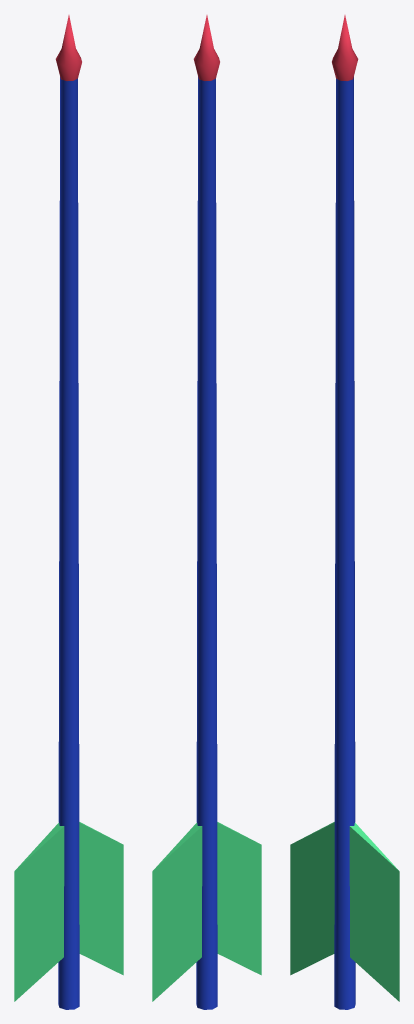
The model's file is PointyArrow.fbx.
3 renders of one model, left to right at view 1: azimuth 30°, elevation 25°; view 2: azimuth 210°, elevation 25°; view 3: azimuth 330°, elevation 25°, orthographic.
Parts seen in each view (by area): view 1: arrow_0; view 2: arrow_0; view 3: arrow_0.
Boxes of the visible parts, x1,y1,x2,y2 form: arrow_0: (14,15,123,1009); arrow_0: (152,15,261,1009); arrow_0: (290,15,399,1009).
Size of the model in its own units: 5.3 by 45.82 by 1.15.
